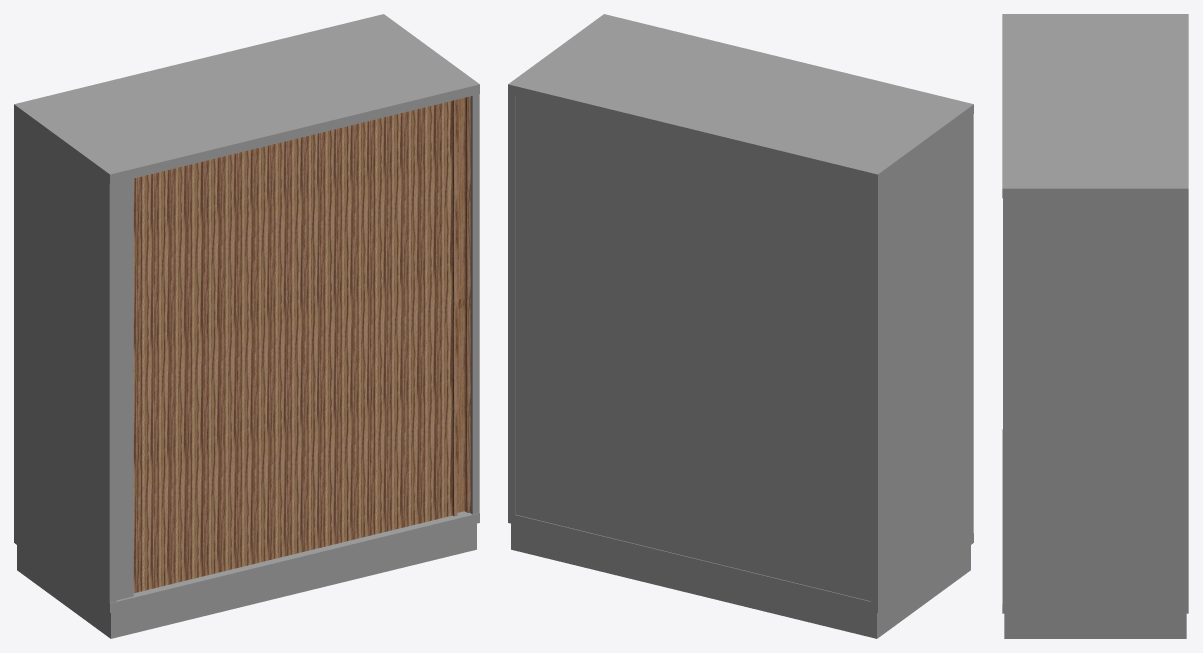
File: baseline_3OH_100x45_side_shutter_FINAL.fbx
3 renders of one model, left to right at view 1: azimuth 30°, elevation 25°; view 2: azimuth 150°, elevation 25°; view 3: azimuth 270°, elevation 25°, orthographic. The views are drawn at different scales.
Parts seen in each view (by area): view 1: drewno_msh, metal_mesh1, M10.I30, mov_part, M9.I18, M9.I27, M9.I21, M9.I24, M9.I13, M9.I15, M9.I20, M9.I23 (+12 smaller); view 2: drewno_msh, metal_mesh1; view 3: drewno_msh, metal_mesh1.
Boxes of the visible parts, x1,y1,x2,y2 form: drewno_msh: [14, 14, 479, 612]; metal_mesh1: [17, 523, 476, 638]; M10.I30: [452, 96, 470, 516]; mov_part: [116, 178, 133, 600]; M9.I18: [252, 145, 269, 564]; M9.I27: [402, 109, 419, 527]; M9.I21: [302, 133, 319, 551]; M9.I24: [352, 121, 369, 539]; M9.I13: [169, 166, 186, 584]; M9.I15: [203, 157, 219, 576]; M9.I20: [286, 137, 302, 555]; M9.I23: [336, 125, 352, 543]; drewno_msh: [508, 14, 973, 612]; metal_mesh1: [511, 523, 970, 638]; drewno_msh: [1002, 14, 1188, 613]; metal_mesh1: [1004, 613, 1186, 638].
Size of the model in its own units: 254 by 306 by 114.
